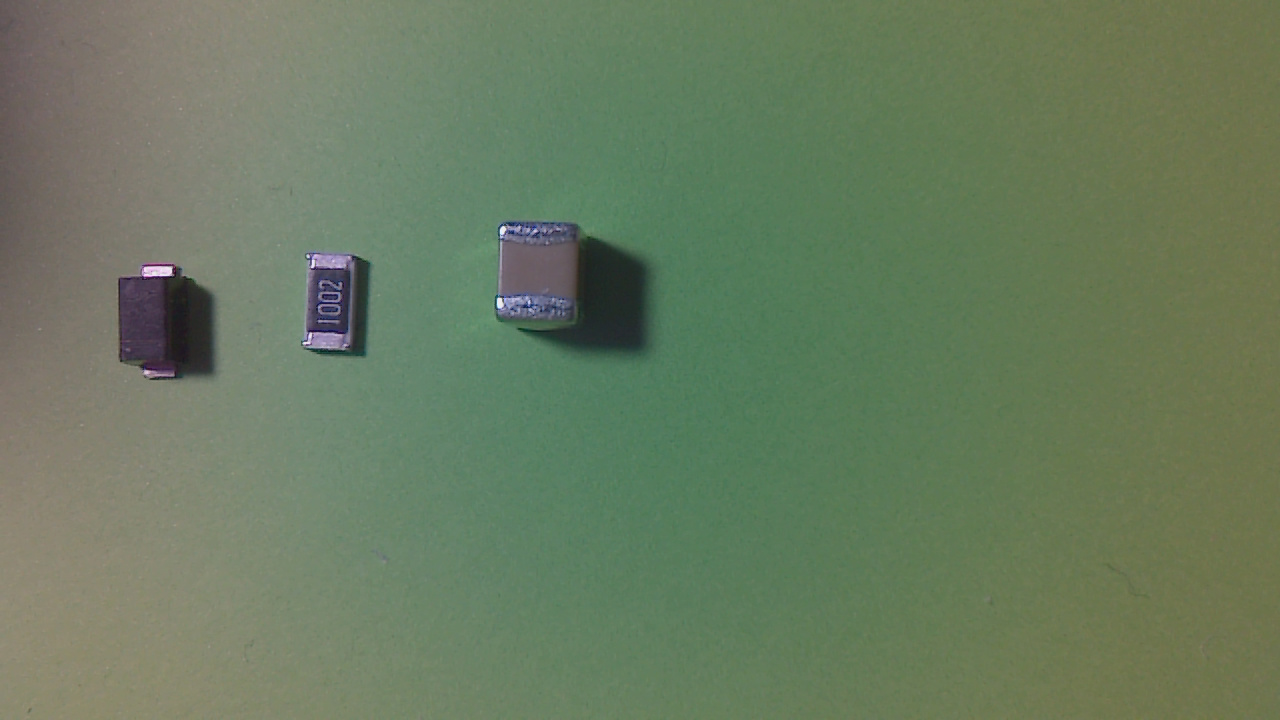Condensator: (494, 224, 592, 335)
Diode: (119, 266, 199, 385)
Resistor: (309, 253, 368, 362)
